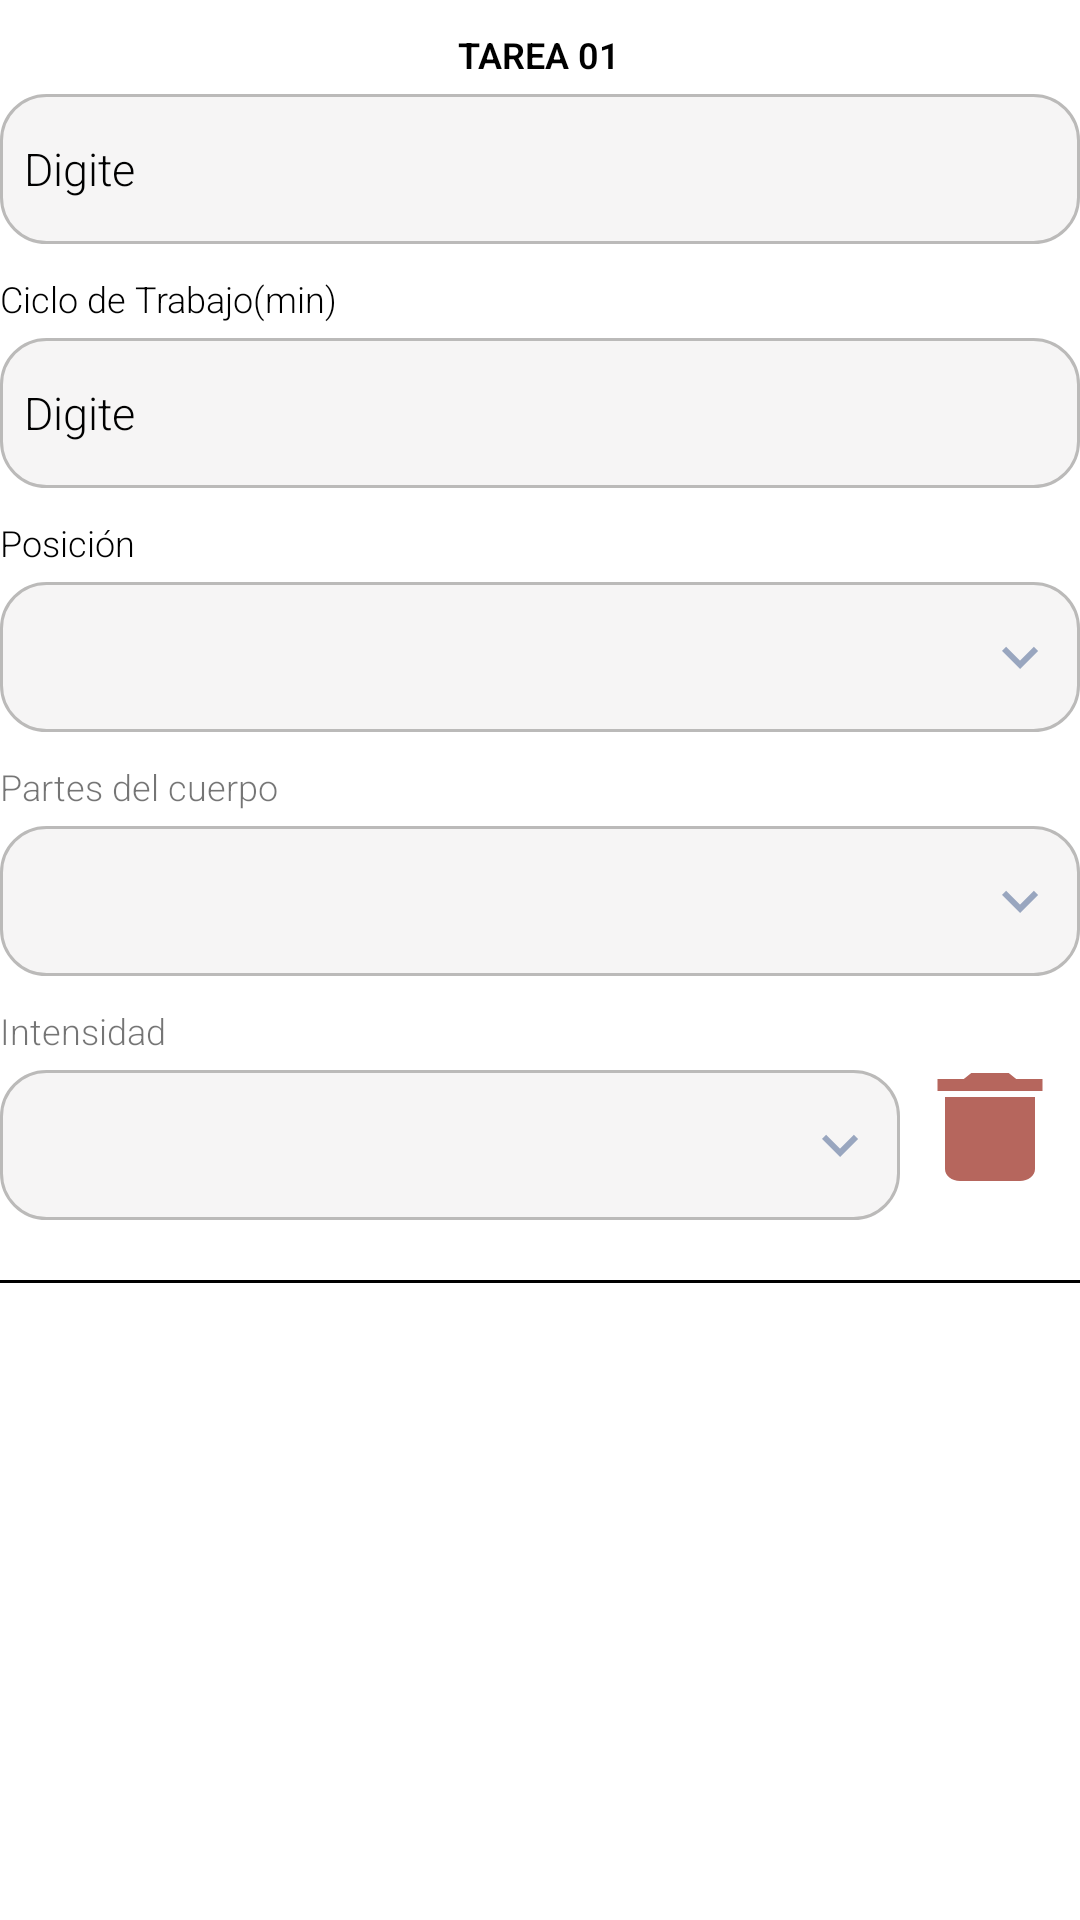

Icon click points for this 1080x1920 phone screenshot, format (x,y):
delete: (990,1127)
